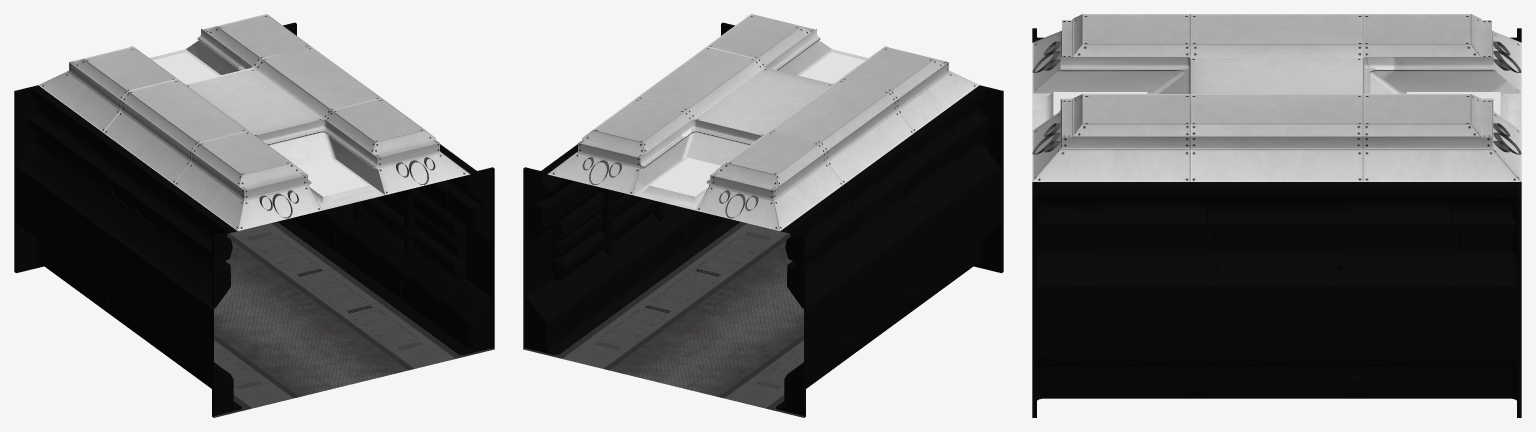
Rendered from HallwayStraight.fbx.
3 views of the same model, side by side, from view 1: azimuth 30°, elevation 25°; view 2: azimuth 150°, elevation 25°; view 3: azimuth 270°, elevation 25° (orthographic). The views are drawn at different scales.
Parts seen in each view (by area): view 1: HallwayStraight001; view 2: HallwayStraight001; view 3: HallwayStraight001.
Part boxes in pixels (x1=…): HallwayStraight001: x1=14, y1=14, x2=494, y2=417; HallwayStraight001: x1=523, y1=14, x2=1003, y2=417; HallwayStraight001: x1=1032, y1=14, x2=1521, y2=417.
Bounding box in the file's own units: 650 × 478 × 800.
